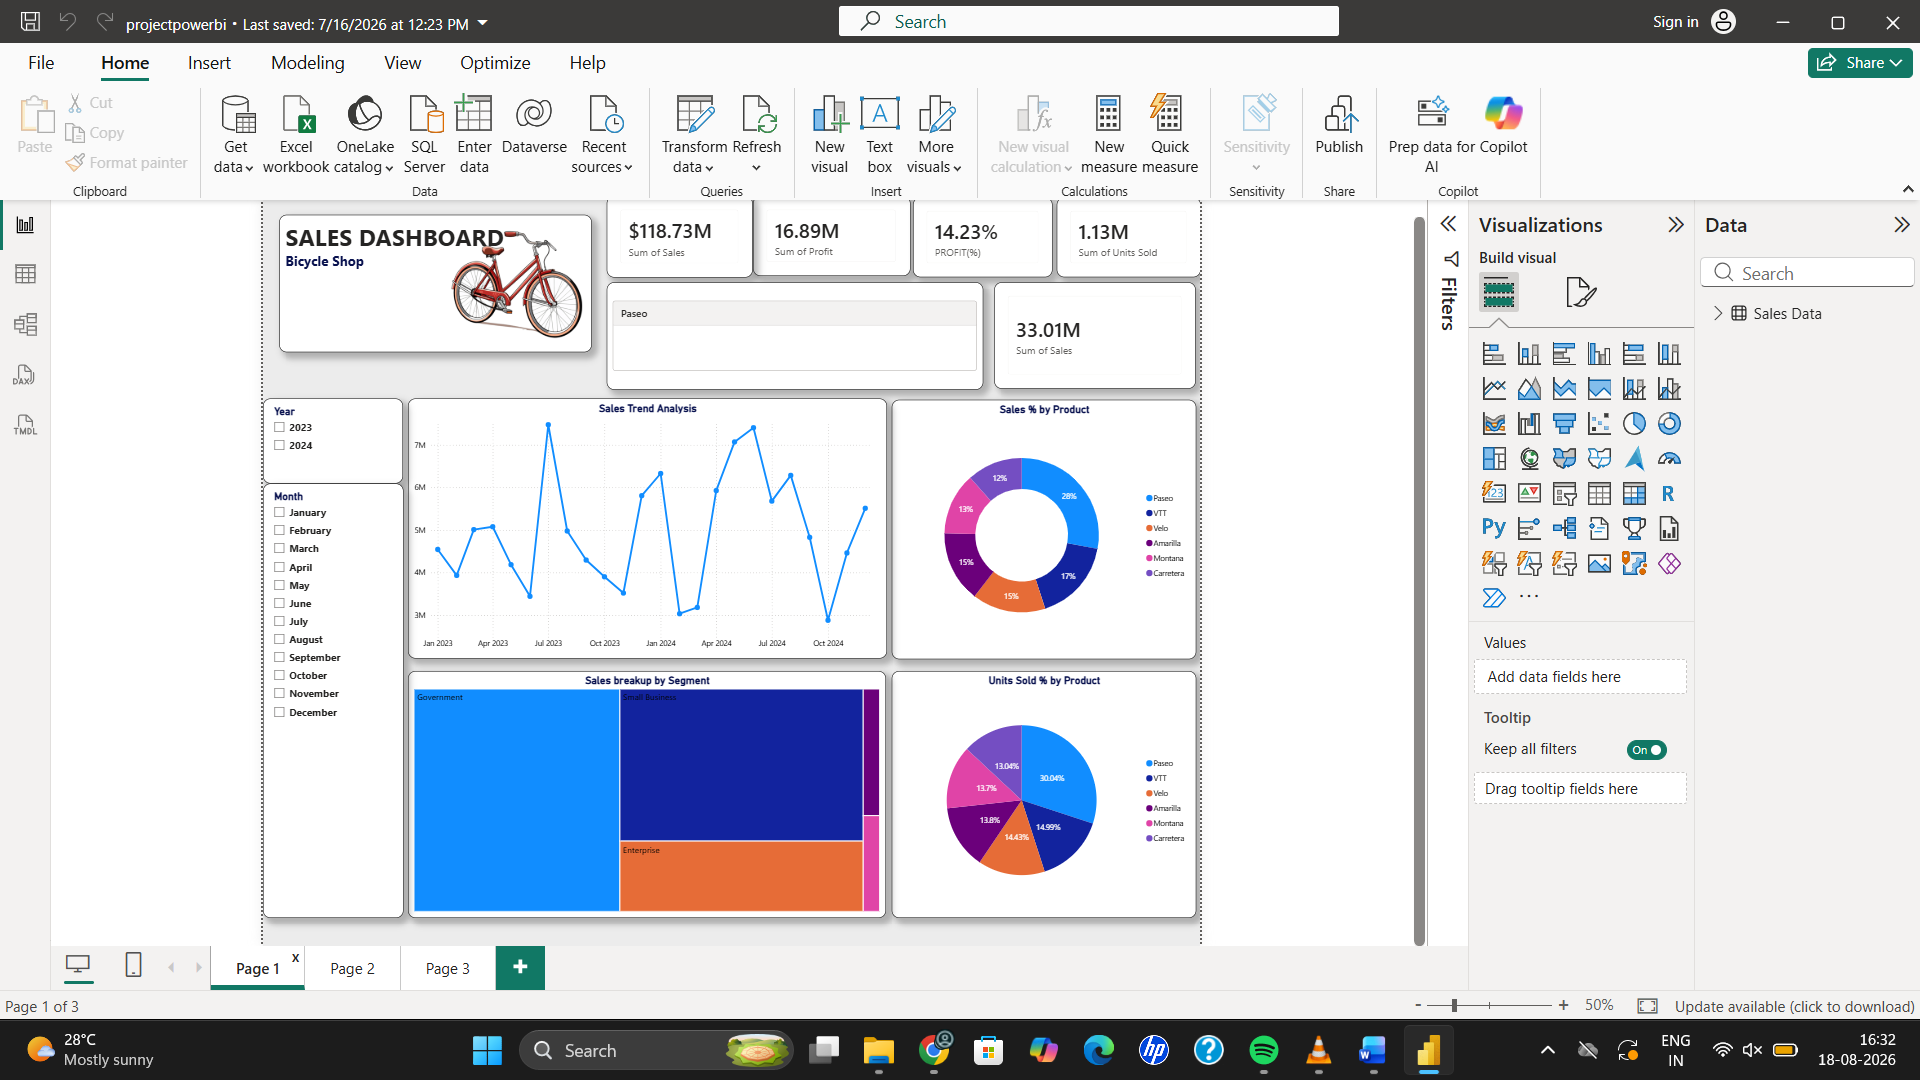

The dashboard page shown, as its layout file describes it:
{"tool":"powerbi","page":{"name":"Page 1","canvas":[1500,1200],"ordinal":0},"visuals":[{"type":"cardVisual","title":"PROFIT($)","fields":{"Data":["Sum(Sales Data.Profit)"]},"box":[783.3,0,251.7,128.3],"z":0},{"type":"cardVisual","title":"PROFIT(%)","fields":{"Data":["Sales Data.PROFIT(%)"]},"box":[1040,1.7,223.3,128.3],"z":1000},{"type":"cardVisual","title":"UNIT SOLD","fields":{"Data":["Sum(Sales Data.Units Sold)"]},"box":[1270,1.7,230,128.3],"z":2000},{"type":"cardVisual","title":"TOTAL SALES","fields":{"Data":["Sum(Sales Data.Sales)"]},"box":[550,0,233.3,130],"z":3000},{"type":"cardVisual","title":"TOP  SELLING PRODUCT","fields":{"Rows":["Sales Data.Product_Name"]},"box":[550,138,602,172],"z":4000},{"type":"cardVisual","title":"TOP  SELLING PRODUCT","fields":{"Data":["Sum(Sales Data.Sales)"]},"box":[1170,137.5,322.5,170],"z":5000},{"type":"donutChart","title":"Sales % by Product","fields":{"Y":["Sum(Sales Data.Sales)"],"Category":["Sales Data.Product_Name"]},"box":[1005,325,487.5,415],"z":6000},{"type":"pieChart","title":"Units Sold % by Product","fields":{"Y":["Sum(Sales Data.Units Sold)"],"Category":["Sales Data.Product_Name"]},"box":[1005,760,487.5,395],"z":7000},{"type":"treemap","title":"Sales breakup by Segment","fields":{"Group":["Sales Data.Segment"],"Values":["Sum(Sales Data.Sales)"]},"box":[232.5,760,765,395],"z":8000},{"type":"lineChart","title":"Sales Trend Analysis","fields":{"Y":["Sum(Sales Data.Sales)"],"Category":["Sales Data.Date.Variation.Date Hierarchy.Year","Sales Data.Date.Variation.Date Hierarchy.Month"]},"box":[232,324,766,416],"z":9000},{"type":"slicer","fields":{"Values":["Sales Data.Year"]},"box":[0,324,224,136],"z":10000},{"type":"slicer","fields":{"Values":["Sales Data.Date.Variation.Date Hierarchy.Month"]},"box":[0,460,225,695],"z":11000},{"type":"textbox","box":[25,30,500,220],"z":17000},{"type":"image","box":[290,0,235,287.5],"z":17001}]}

Visuals, with their boxes on the page's 1500x1200 design canvas (x1, y1, x2, y2). These are canvas units, not pixel positions in the 1920x1080 screenshot, which may show the page scaled, cropped or inside an application window:
"PROFIT($)" cardVisual: l=783, t=0, r=1035, b=128
"PROFIT(%)" cardVisual: l=1040, t=2, r=1263, b=130
"UNIT SOLD" cardVisual: l=1270, t=2, r=1500, b=130
"TOTAL SALES" cardVisual: l=550, t=0, r=783, b=130
"TOP  SELLING PRODUCT" cardVisual: l=550, t=138, r=1152, b=310
"TOP  SELLING PRODUCT" cardVisual: l=1170, t=138, r=1492, b=308
"Sales % by Product" donutChart: l=1005, t=325, r=1492, b=740
"Units Sold % by Product" pieChart: l=1005, t=760, r=1492, b=1155
"Sales breakup by Segment" treemap: l=232, t=760, r=998, b=1155
"Sales Trend Analysis" lineChart: l=232, t=324, r=998, b=740
slicer - Sales Data.Year: l=0, t=324, r=224, b=460
slicer - Sales Data.Date.Variation.Date Hierarchy.Month: l=0, t=460, r=225, b=1155
textbox: l=25, t=30, r=525, b=250
image: l=290, t=0, r=525, b=288
